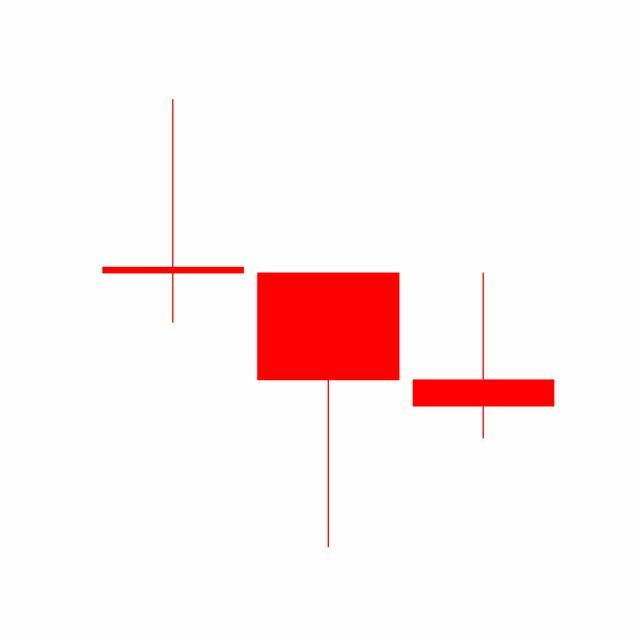Spinning Top: (406, 271, 562, 441)
